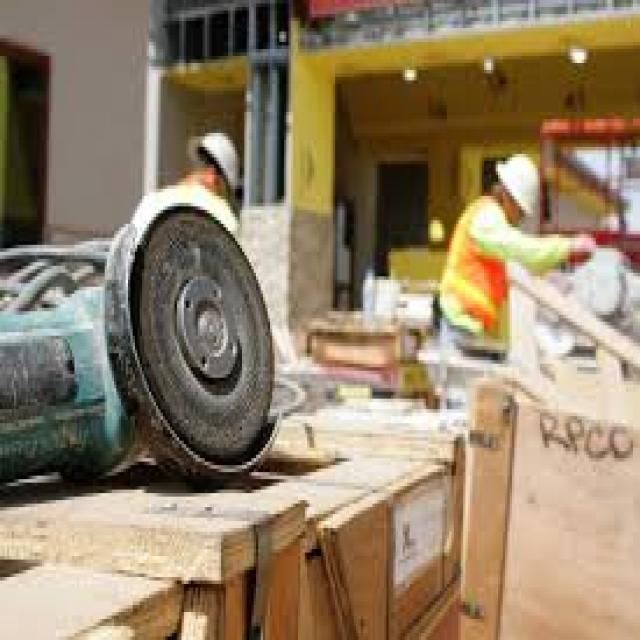Reflective-Jacket: (431, 200, 526, 360)
Safety-Helmet: (477, 140, 552, 227), (184, 123, 239, 184)
